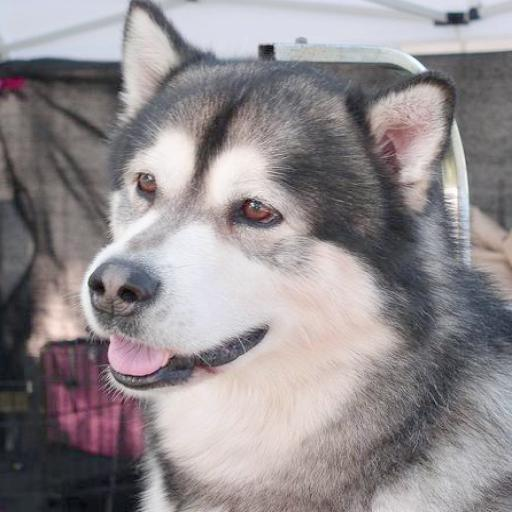dog_face: (86, 0, 447, 403)
